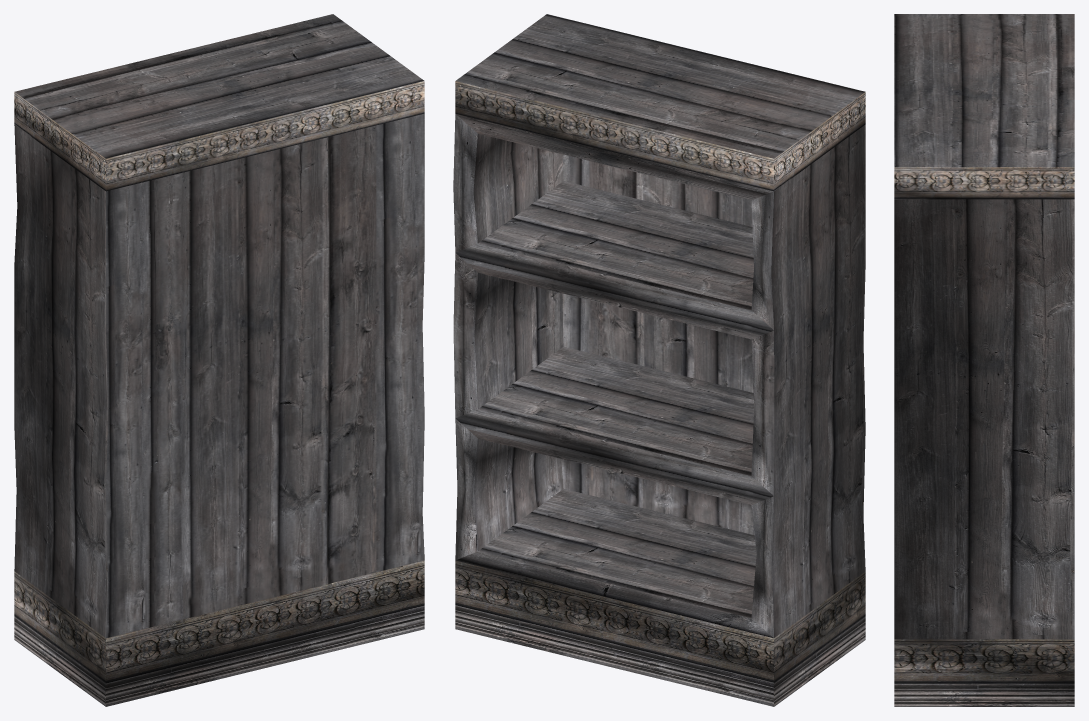
The model's file is tavern_shelf1.fbx.
3 renders of one model, left to right at view 1: azimuth 30°, elevation 25°; view 2: azimuth 150°, elevation 25°; view 3: azimuth 270°, elevation 25°, orthographic.
Parts seen in each view (by area): view 1: Default_Layer; view 2: Default_Layer; view 3: Default_Layer.
Part boxes in pixels (box(x1,y1,x2,y2)): Default_Layer: box(14, 14, 424, 706); Default_Layer: box(453, 14, 865, 706); Default_Layer: box(894, 14, 1074, 706).
Size of the model in its own units: 308 by 503 by 152.
1 material, 1 textured.
